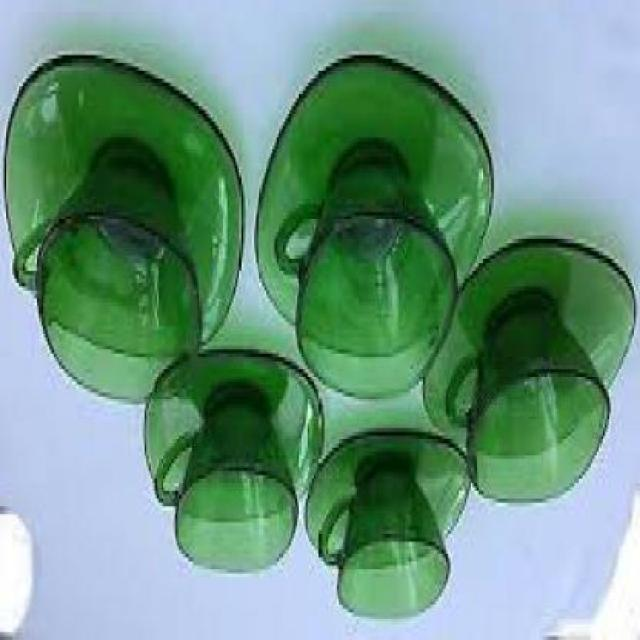kaca: (6, 58, 248, 364), (254, 64, 496, 362), (13, 152, 202, 408), (423, 240, 635, 463), (274, 160, 460, 408), (448, 303, 610, 506), (144, 354, 328, 526), (157, 397, 303, 577), (306, 435, 470, 577), (318, 463, 452, 625)
